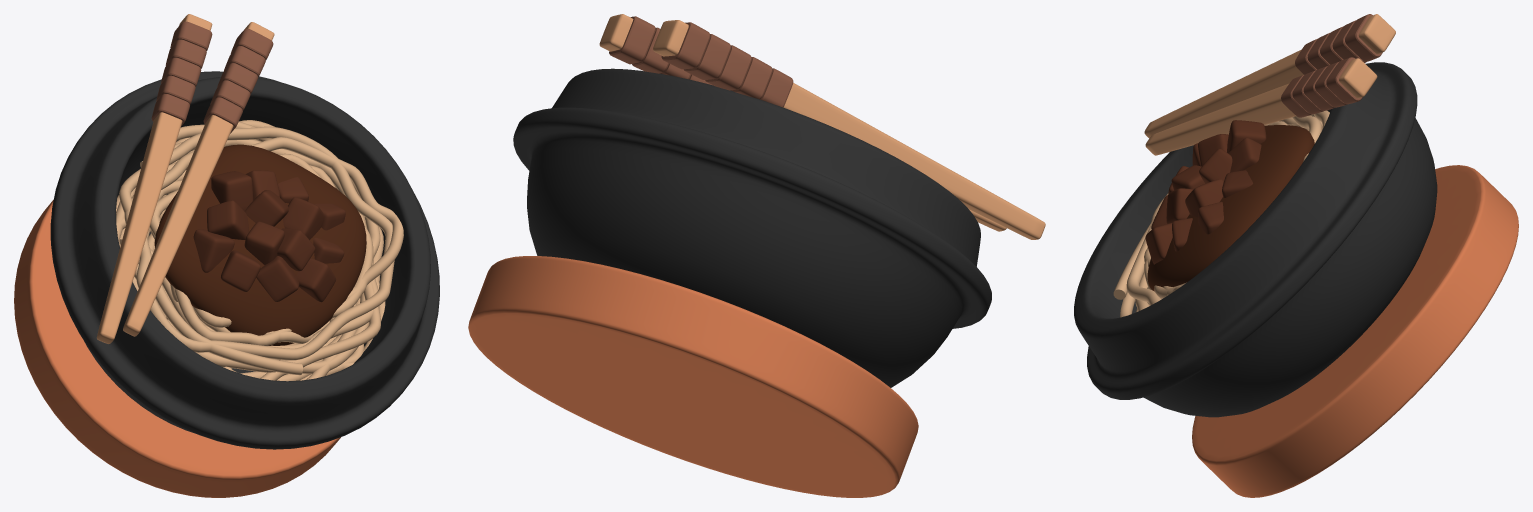
Rendered from jjajangmyeon.glb.
3 views of the same model, side by side, from view 1: azimuth 30°, elevation 25°; view 2: azimuth 150°, elevation 25°; view 3: azimuth 270°, elevation 25° (orthographic). The views are drawn at different scales.
Visible parts, largest first — view 1: Sphere.009, Cylinder.099, NurbsPath.006, Sphere.010, Cube.036, Cube.034, Cube.037, Cube.035, Cube.042, Cube.048, Cube.043, Cube.038 (+10 smaller); view 2: Sphere.009, Cylinder.099, Cube.036, Cube.037, Cube.035, Cube.034; view 3: Sphere.009, Cylinder.099, Sphere.010, Cube.034, Cube.036, NurbsPath.006, Cube.035, Cube.037, Cube.041, Cube.043, Cube.044, Cube.049 (+7 smaller).
Boxes of the visible parts, left/top/right/bottom form: Sphere.009: left=50, top=71, right=439, bottom=449; Cylinder.099: left=14, top=200, right=340, bottom=497; NurbsPath.006: left=116, top=120, right=403, bottom=381; Sphere.010: left=154, top=144, right=366, bottom=345; Cube.036: left=96, top=14, right=212, bottom=343; Cube.034: left=123, top=22, right=274, bottom=336; Cube.037: left=151, top=21, right=212, bottom=126; Cube.035: left=203, top=28, right=273, bottom=133; Cube.042: left=207, top=200, right=249, bottom=239; Cube.048: left=256, top=256, right=299, bottom=301; Cube.043: left=211, top=171, right=253, bottom=210; Cube.038: left=244, top=221, right=284, bottom=264; Sphere.009: left=513, top=68, right=991, bottom=387; Cylinder.099: left=468, top=256, right=918, bottom=497; Cube.036: left=653, top=20, right=1045, bottom=239; Cube.037: left=661, top=22, right=793, bottom=107; Cube.035: left=609, top=16, right=712, bottom=85; Cube.034: left=599, top=14, right=1006, bottom=231; Sphere.009: left=1074, top=62, right=1437, bottom=417; Cylinder.099: left=1192, top=165, right=1518, bottom=497; Sphere.010: left=1147, top=125, right=1314, bottom=291; Cube.034: left=1145, top=58, right=1377, bottom=155; Cube.036: left=1144, top=14, right=1395, bottom=138; NurbsPath.006: left=1113, top=110, right=1329, bottom=317; Cube.035: left=1281, top=57, right=1362, bottom=117; Cube.037: left=1295, top=14, right=1382, bottom=74; Cube.041: left=1185, top=179, right=1223, bottom=217; Cube.043: left=1227, top=120, right=1266, bottom=152; Cube.044: left=1228, top=137, right=1261, bottom=172; Cube.049: left=1145, top=222, right=1172, bottom=264.
Size of the model in its own units: 2.64 by 2.92 by 2.56.
